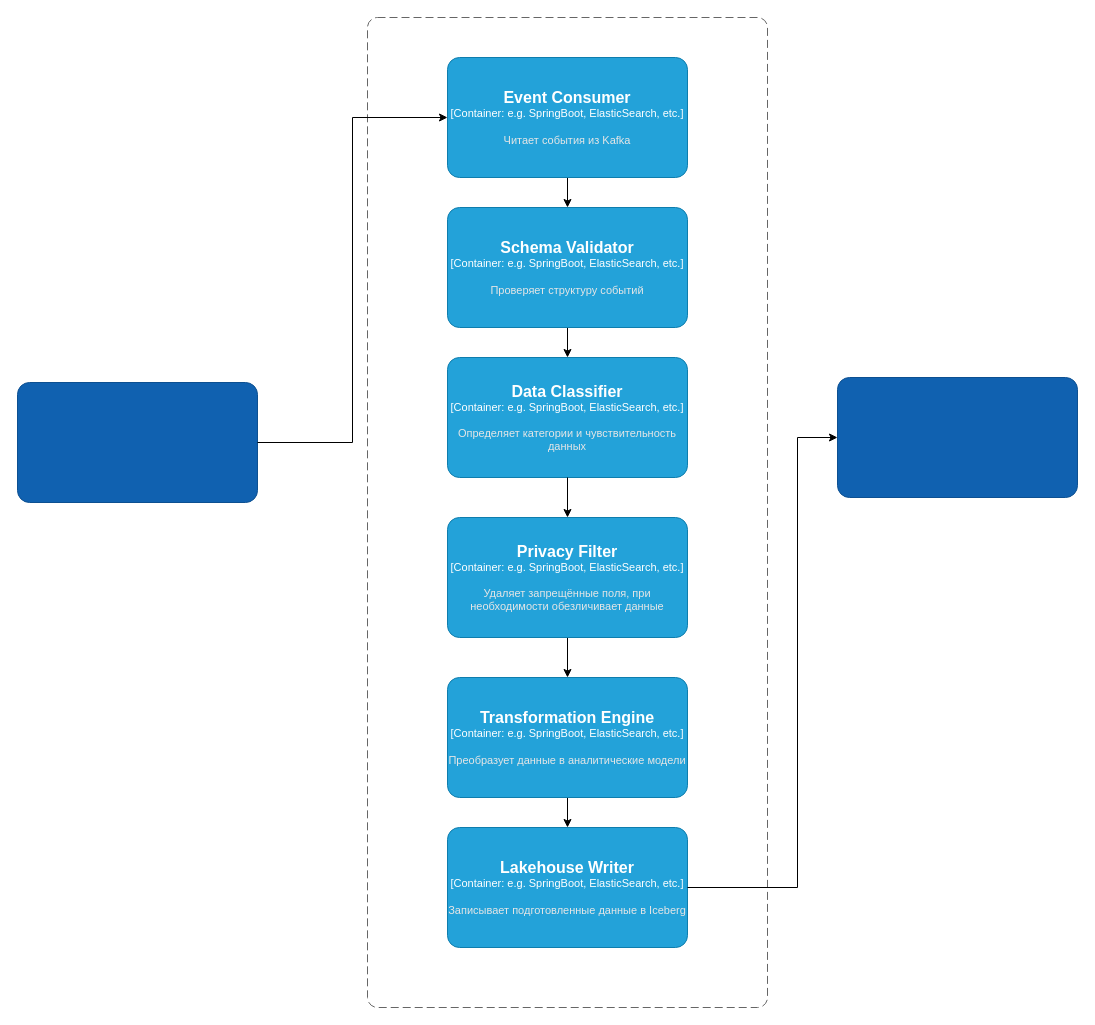
Image size: 1095x1025. Some labels were removed from this diagram. The box of each missing label's shape, as (x1, y1, x2, y2) in pixels:
Data Processing [Container]: (366, 16, 768, 1008)
Kafka [Software System] Брокер событий: (16, 382, 258, 502)
Lakehouse [Software System] S3 + Iceberg: (836, 376, 1078, 498)
